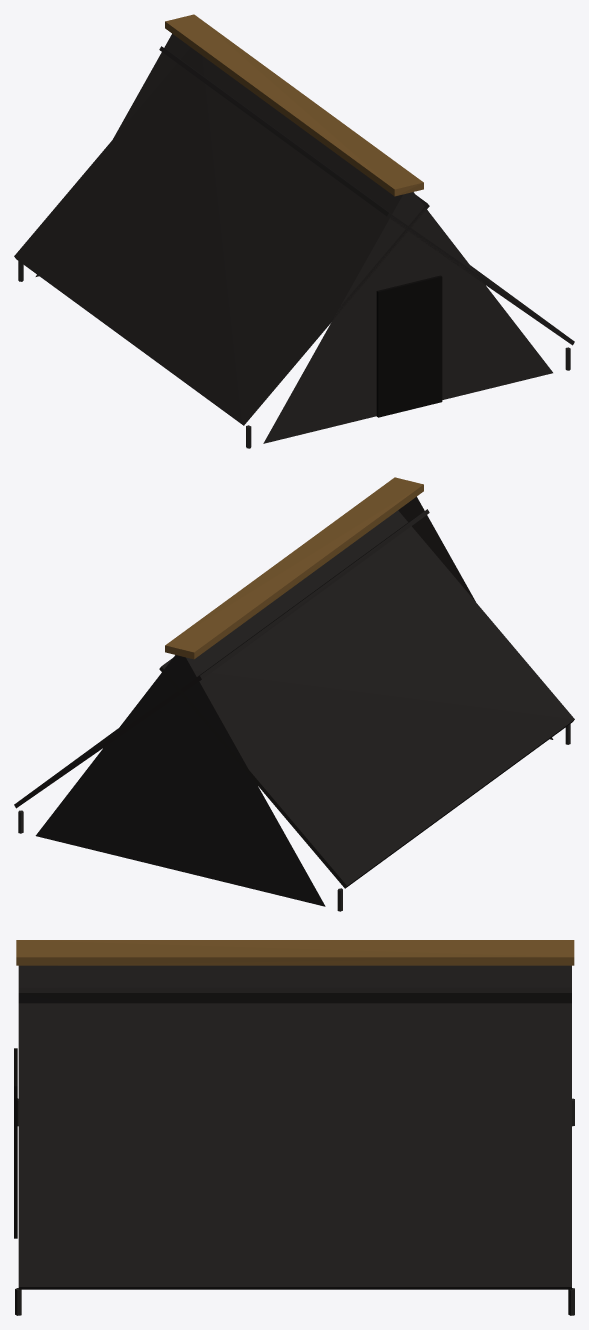
File: warhost-tent-a.glb
The picture shows the model from 3 angles, top to bottom: view 1: azimuth 30°, elevation 25°; view 2: azimuth 150°, elevation 25°; view 3: azimuth 270°, elevation 25°; orthographic projection. The views are drawn at different scales.
Visible parts, largest first — view 1: warhost-tent-a; view 2: warhost-tent-a; view 3: warhost-tent-a.
Boxes of the visible parts, x1=… form: warhost-tent-a: x1=14, y1=14, x2=574, y2=448; warhost-tent-a: x1=14, y1=477, x2=574, y2=911; warhost-tent-a: x1=14, y1=940, x2=574, y2=1315.
Bounding box in the file's own units: 5 × 3.2 × 6.
